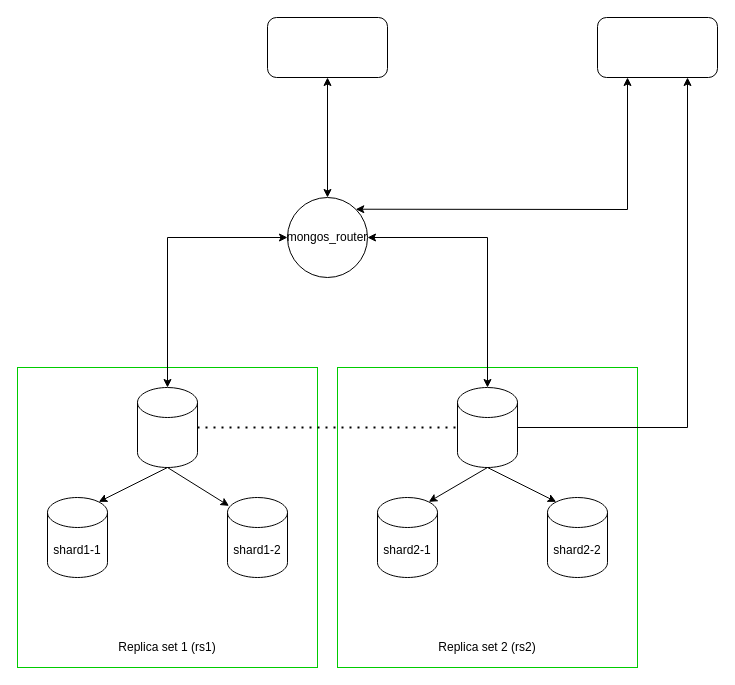
This 735x685 diagram has some shape labels left out. Each missing label, with the centre of its shape:
configSrv: the point at 657,47
pymongo-api: the point at 327,47
shard1: the point at 167,427
shard2: the point at 487,427
